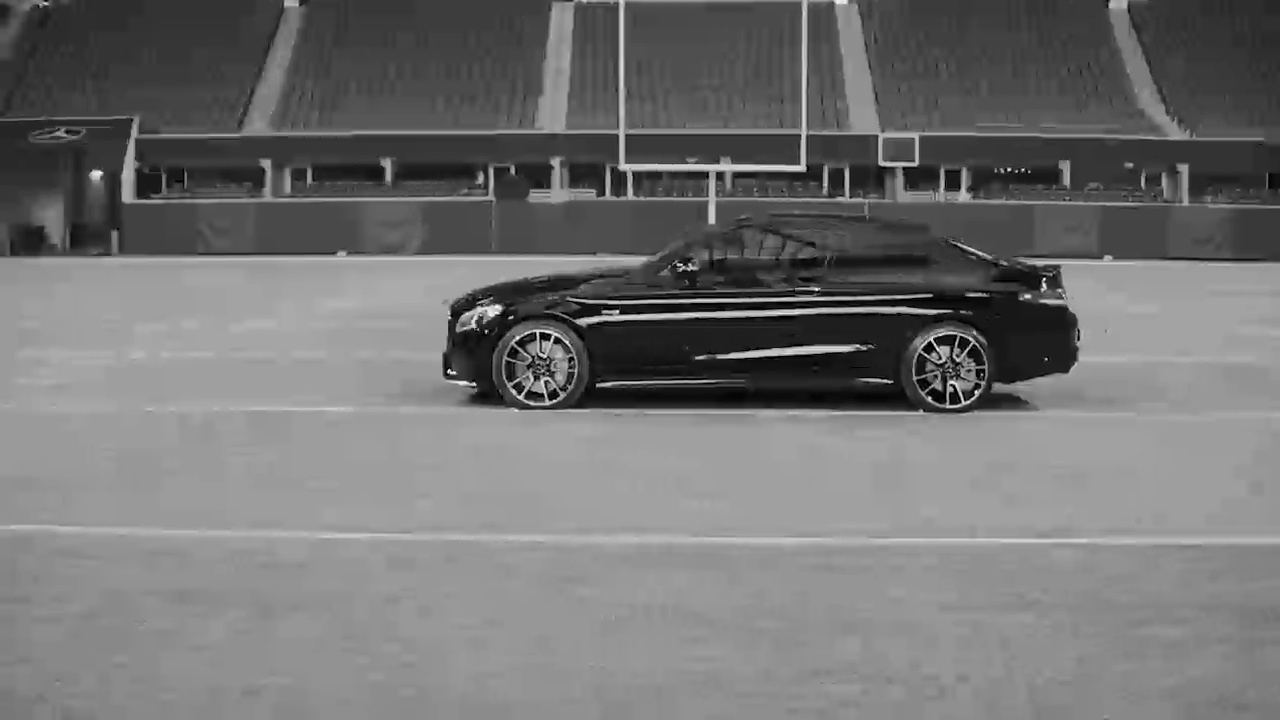car: (438, 210, 1087, 417)
